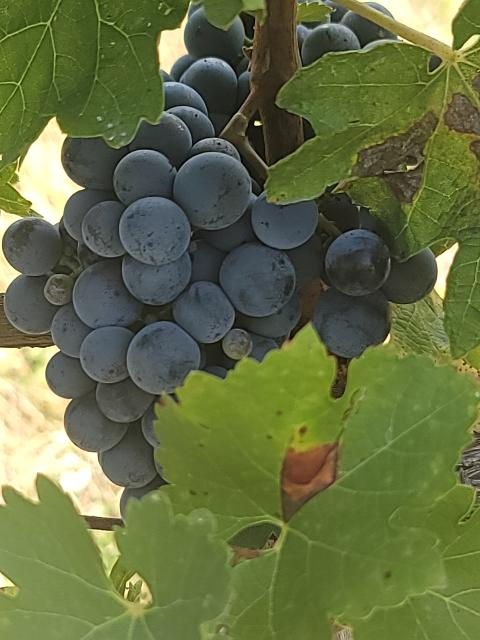grapes: (2, 81, 435, 511)
